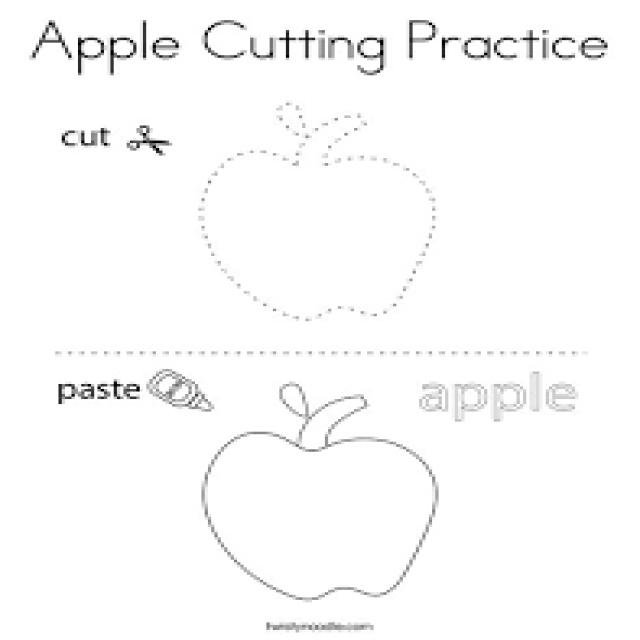Apple: (202, 108, 439, 318), (202, 394, 434, 606)
